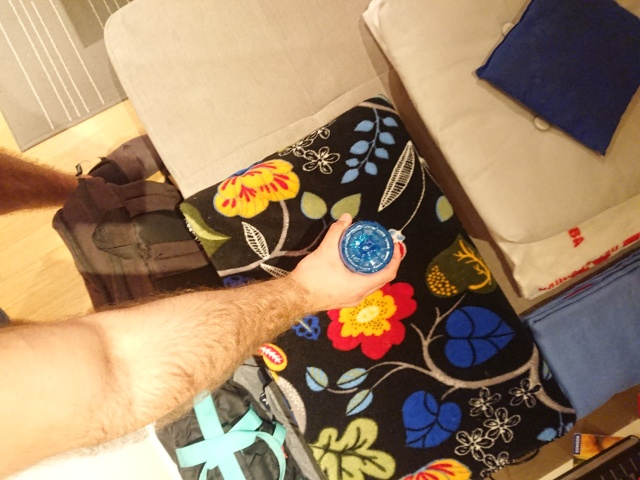Vindi Iso Sport Forest Strawberries 500mL: (336, 218, 395, 275)
